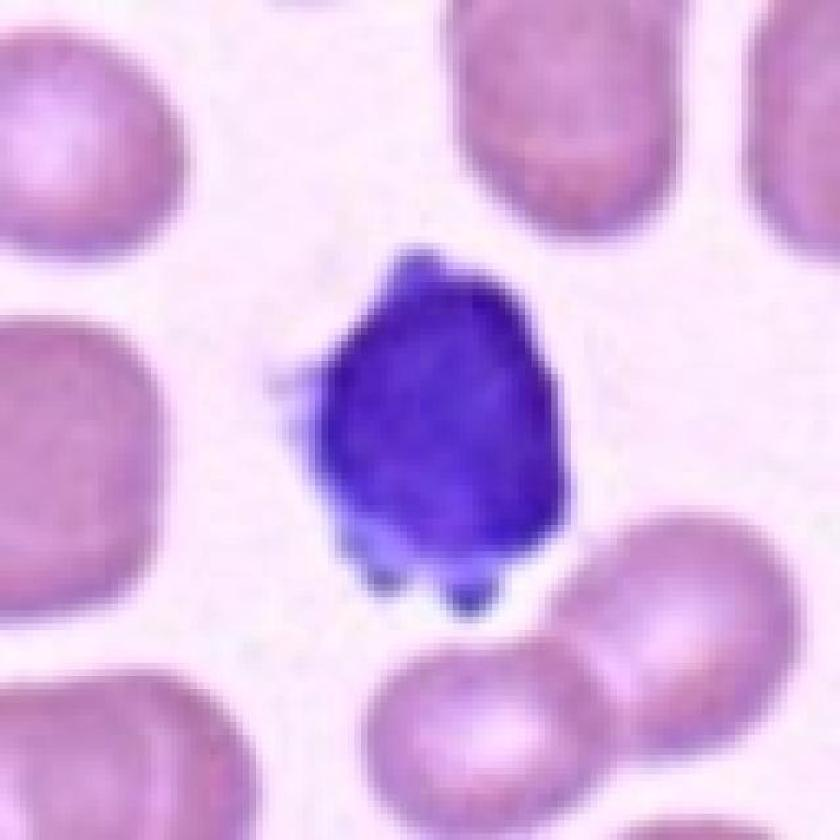lymphocyte: (275, 232, 593, 624)
